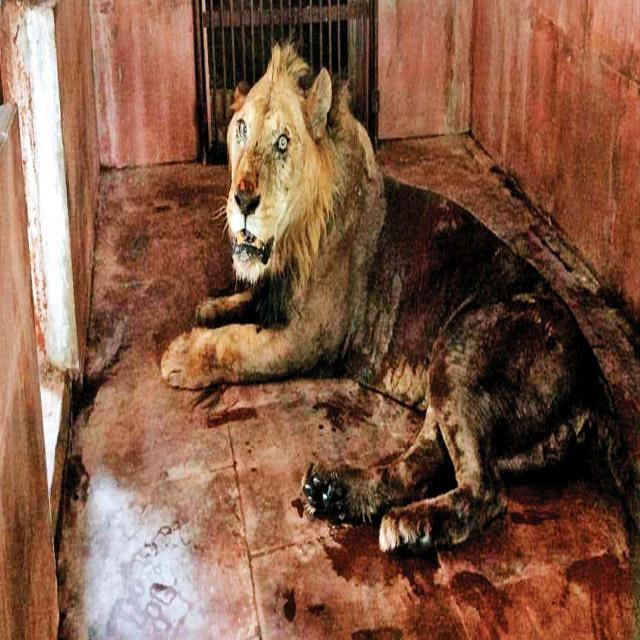Lion: (169, 51, 611, 556)
